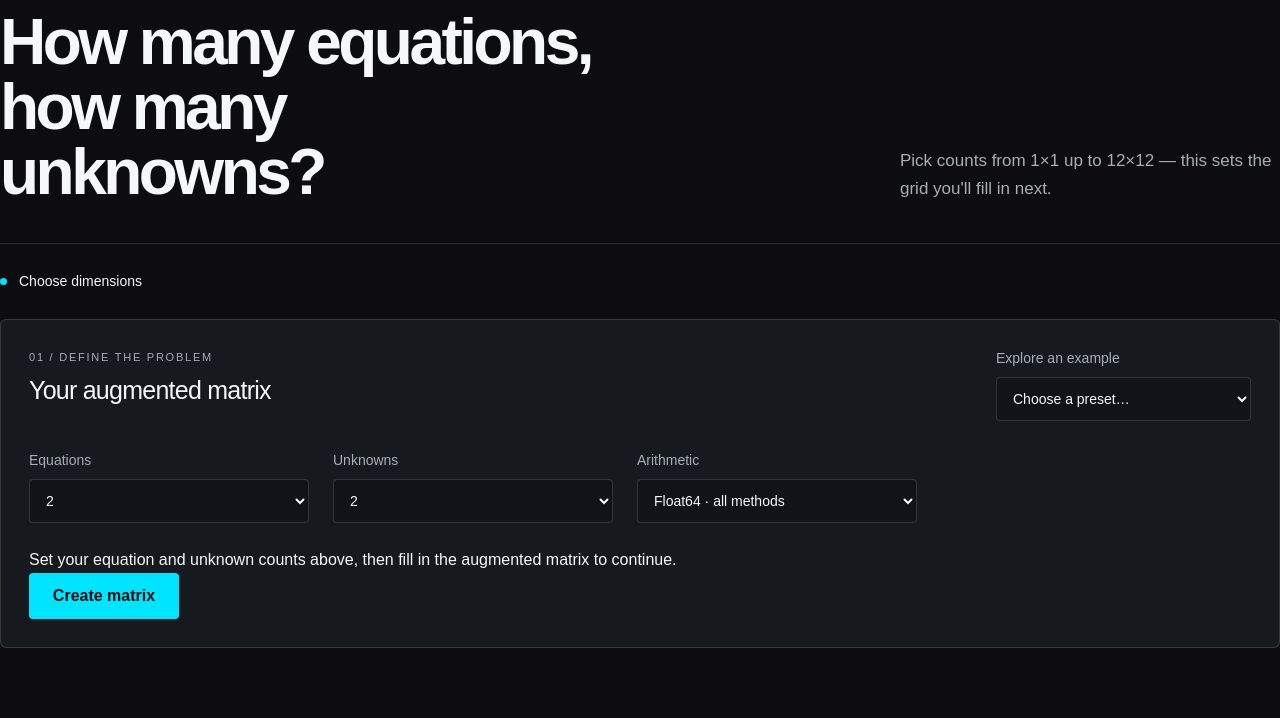
Test: explicit risk consent and reordering options are sent only when selected
Select "Non-convergent · inspect the risk" in the dropdown labelled "Explore an example" at (1124, 399), box [996,377,1251,421]
(page scrolled)
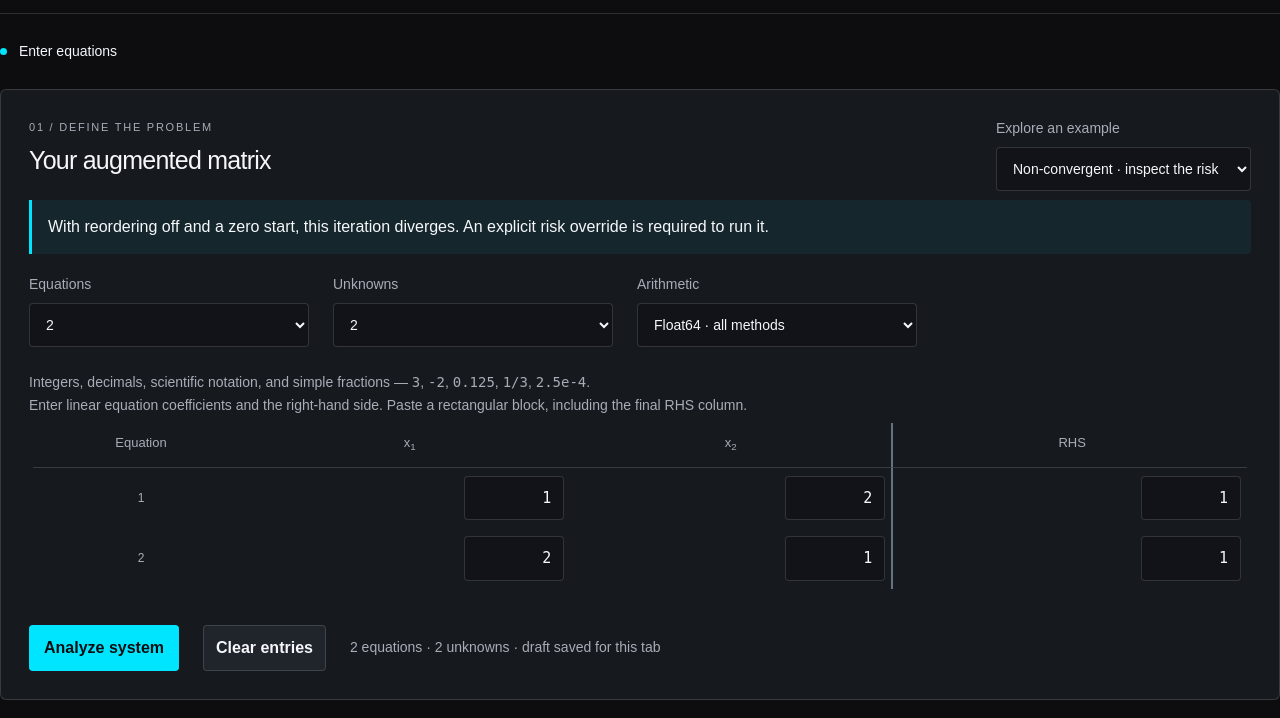
Click the button "Analyze system".
click(104, 648)  # box [29,625,179,671]
(page scrolled)
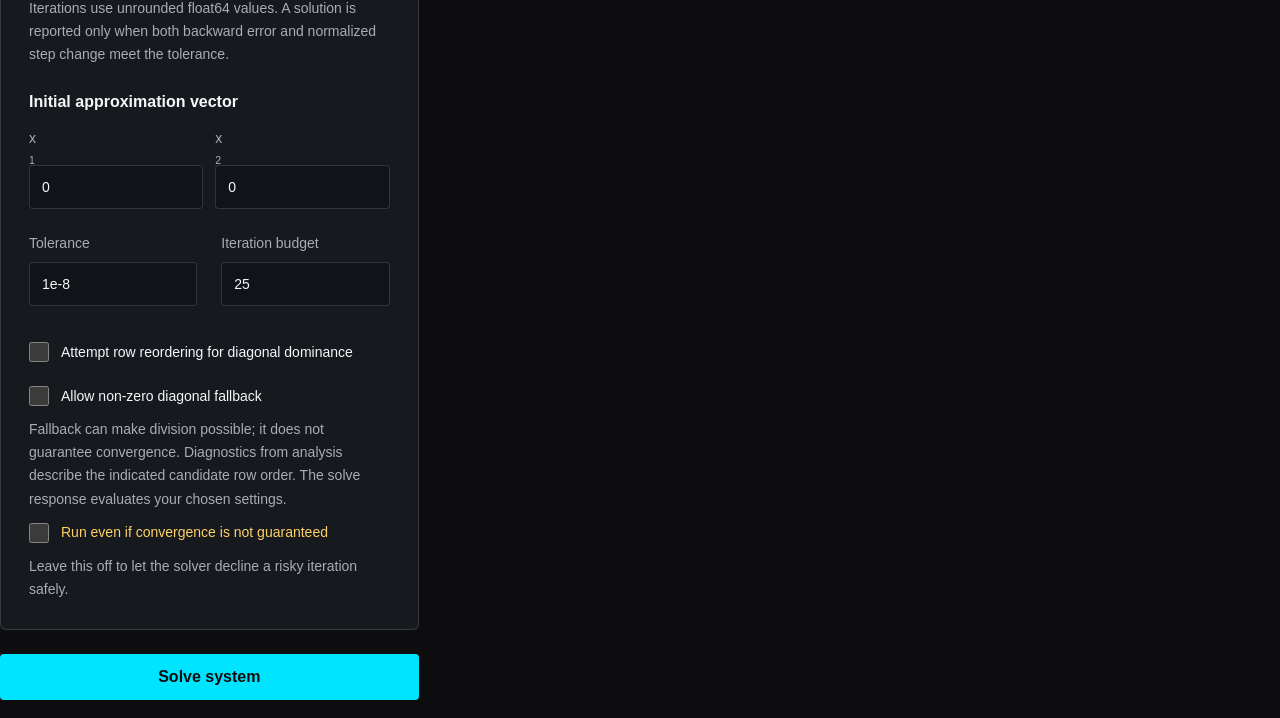
expect the checkbox labelled "Run even if convergence is not guaranteed" is not checked: met
expect the checkbox labelled "Attempt row reordering for diagonal dominance" is not checked: met, box [29,342,49,362]
Click the checkbox labelled "Run even if convergence is not guaranteed".
click(39, 533)  # box [29,523,49,543]
(page scrolled)
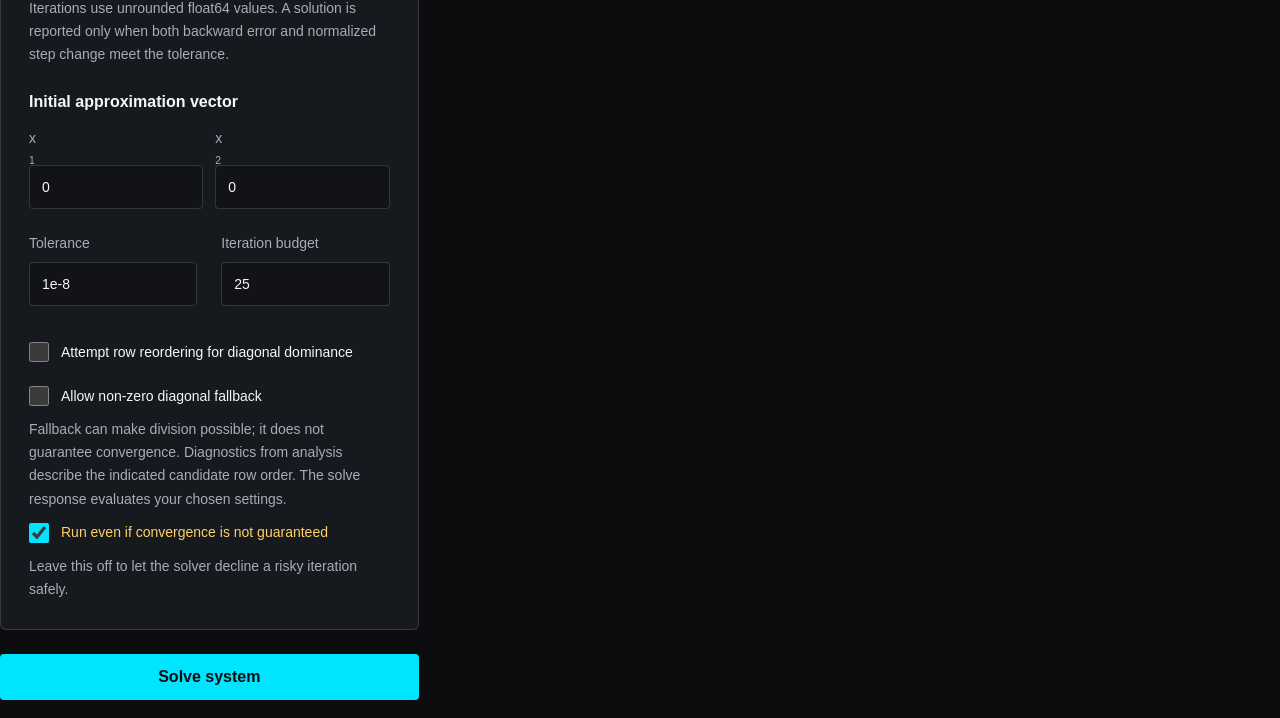
Click the checkbox labelled "Allow non-zero diagonal fallback".
click(39, 396)  # box [29,386,49,406]
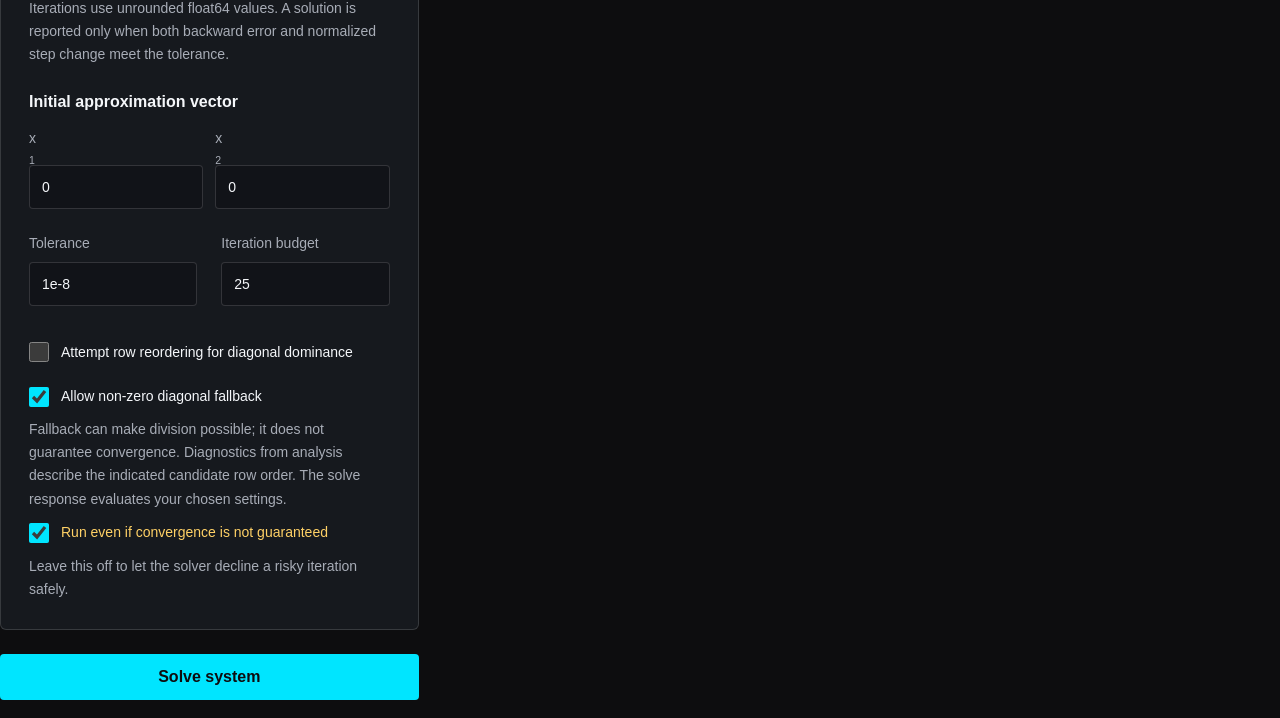
Replace the text in the field labelled "Iteration budget" with "500" at (305, 284), box [221,262,390,306]
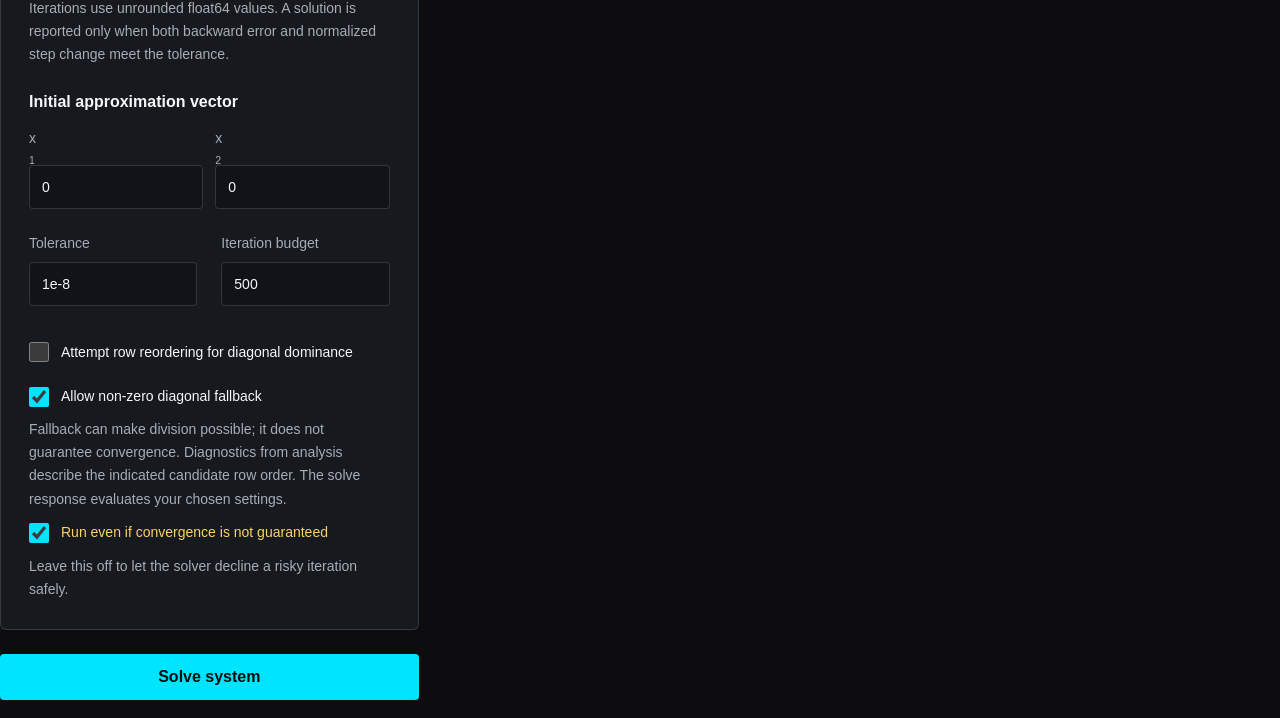
Click the button "Solve system".
click(209, 677)  # box [0,654,419,700]
(page scrolled)
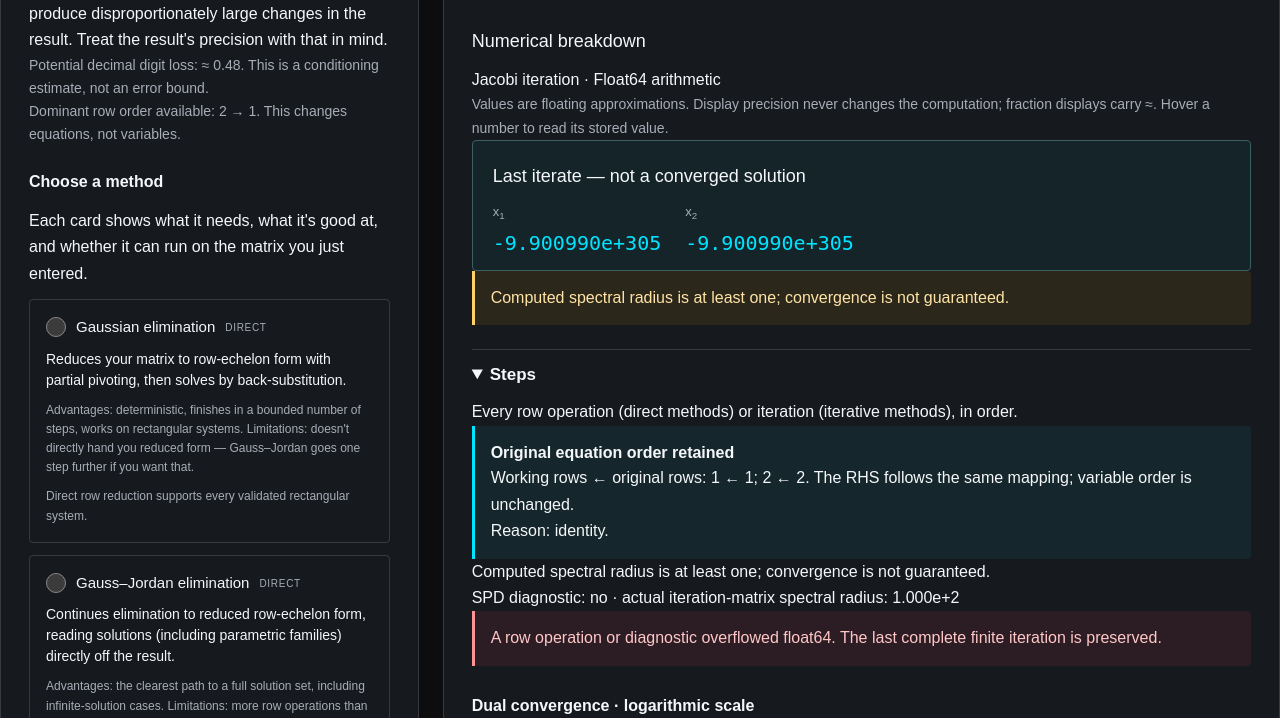
expect the heading "Numerical breakdown" is shown: met, box [472,31,646,51]
